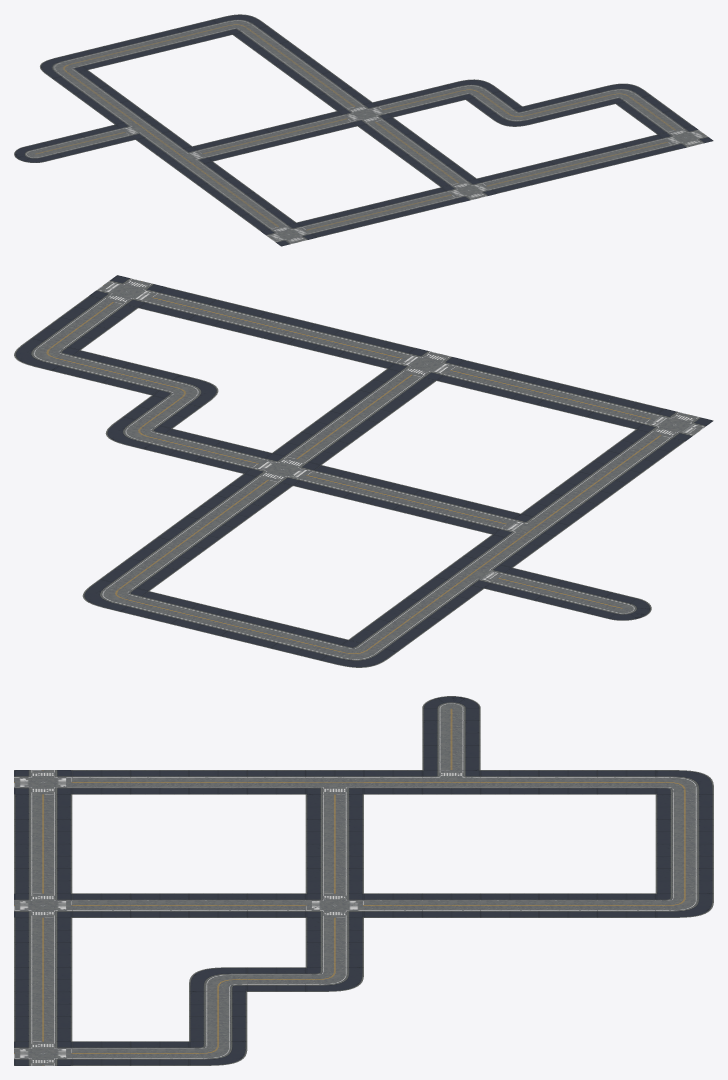
File: m_idle_bg_road_a_08.fbx
3 renders of one model, top to bottom at view 1: azimuth 30°, elevation 25°; view 2: azimuth 150°, elevation 25°; view 3: azimuth 270°, elevation 25°, orthographic. The views are drawn at different scales.
Parts seen in each view (by area): view 1: m_idle_bg_road_a_08; view 2: m_idle_bg_road_a_08; view 3: m_idle_bg_road_a_08.
Part boxes in pixels (box(x1,y1,x2,y2)): m_idle_bg_road_a_08: box(14, 14, 713, 246); m_idle_bg_road_a_08: box(14, 275, 713, 667); m_idle_bg_road_a_08: box(14, 696, 713, 1065).
Size of the model in its own units: 375 by 6.28e-05 by 300.
